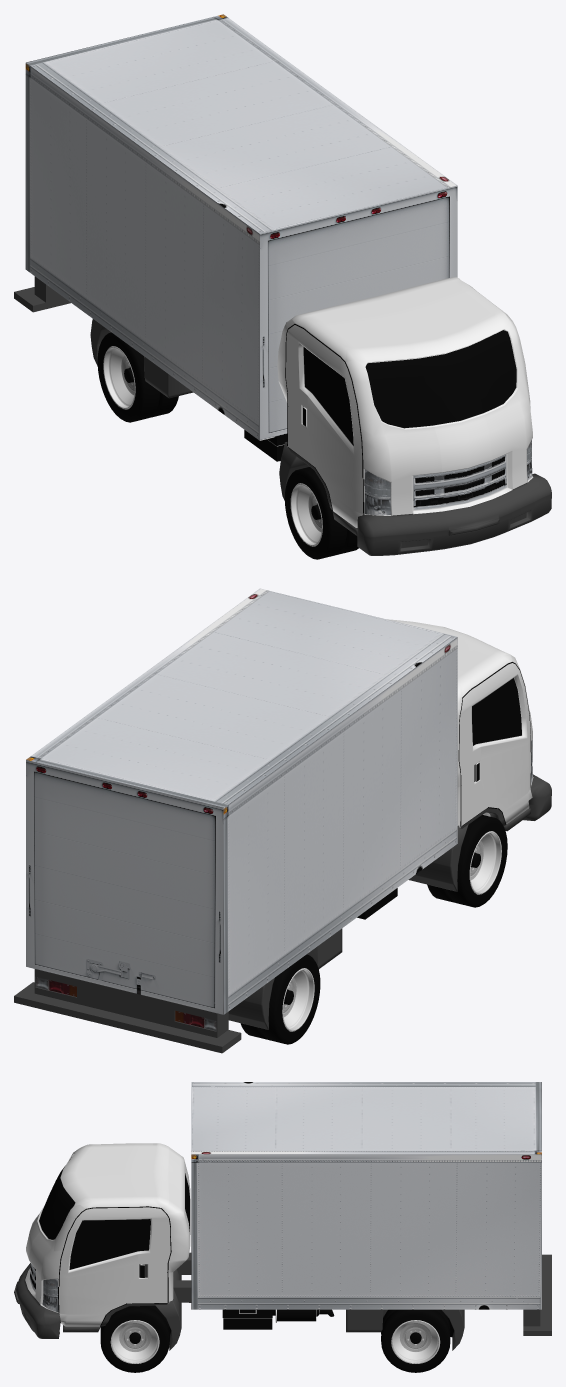
The model's file is Truck.fbx.
3 views of the same model, one above another, from view 1: azimuth 30°, elevation 25°; view 2: azimuth 150°, elevation 25°; view 3: azimuth 270°, elevation 25° (orthographic). The views are drawn at different scales.
Visible parts, largest first — view 1: Cube, Cube.001, Cylinder.008, Cylinder.002, Cube.005, Cube.003, Cube.004, Cube.002; view 2: Cube, Cube.001, Cube.004, Cylinder.008, Cylinder.002, Cube.005, Cube.002; view 3: Cube, Cube.001, Cylinder.007, Cylinder.006, Cube.004, Cube.005, Cube.006, Cube.002, Cylinder.004, Cube.003.
Boxes of the visible parts, x1,y1,x2,y2 form: Cube: (25,14,457,440); Cube.001: (277,277,551,555); Cylinder.008: (284,467,358,559); Cylinder.002: (97,332,178,422); Cube.005: (90,319,193,398); Cube.003: (364,440,532,515); Cube.004: (14,276,70,312); Cube.002: (279,442,357,535); Cube: (26,588,457,1014); Cube.001: (387,619,551,828); Cube.004: (14,969,241,1053); Cylinder.008: (427,815,507,907); Cylinder.002: (240,954,320,1044); Cube.005: (228,928,342,1029); Cube.002: (408,808,530,891); Cube: (191,1082,541,1309); Cube.001: (14,1143,190,1338); Cylinder.007: (381,1309,450,1372); Cylinder.006: (100,1306,169,1372); Cube.004: (173,1252,551,1335); Cube.005: (346,1309,464,1350); Cube.006: (222,1309,272,1329); Cube.002: (63,1269,181,1350); Cylinder.004: (272,1309,334,1322); Cube.003: (42,1279,58,1312).
Bounding box in the file's own units: 168 × 229 × 500.
Materials: 16 (6 with a texture image).
